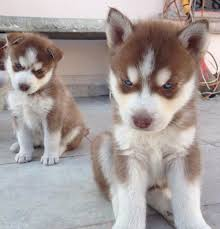husky: (100, 3, 211, 176), (3, 29, 66, 125)
